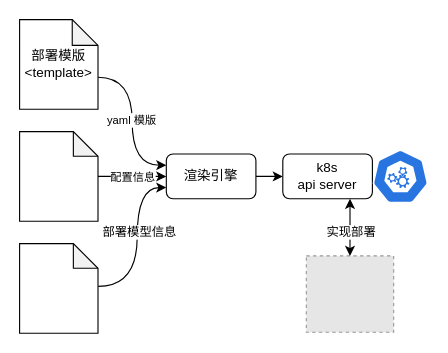
This 448x353 diagram has some shape labels left out. Grey dashed boxes stand in for pictures. The shapes that lost their labels are listed below. From the top down, each one's centre as x and y in pixels, then its label:
(x=58, y=175): 硬件架构
(x=58, y=287): 模型信息
